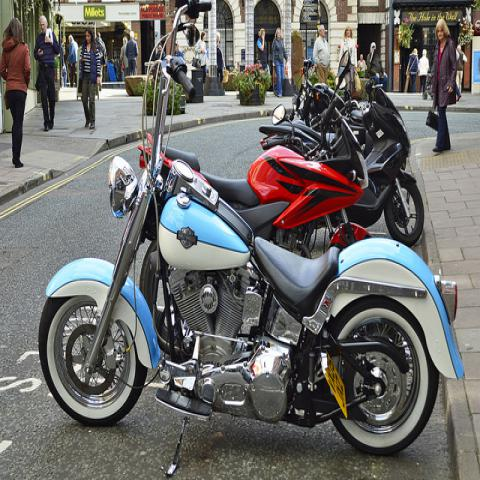motorcycle: (38, 3, 468, 455), (138, 52, 372, 260), (258, 90, 426, 248), (287, 45, 344, 119), (337, 76, 389, 131)
